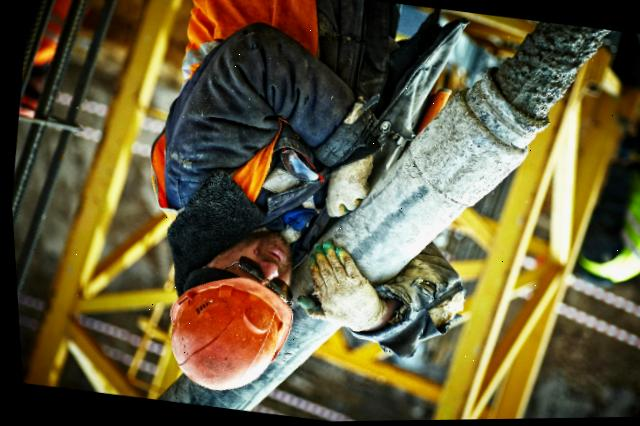helmet: (160, 278, 283, 388)
vest: (146, 0, 442, 272), (579, 157, 640, 299)
